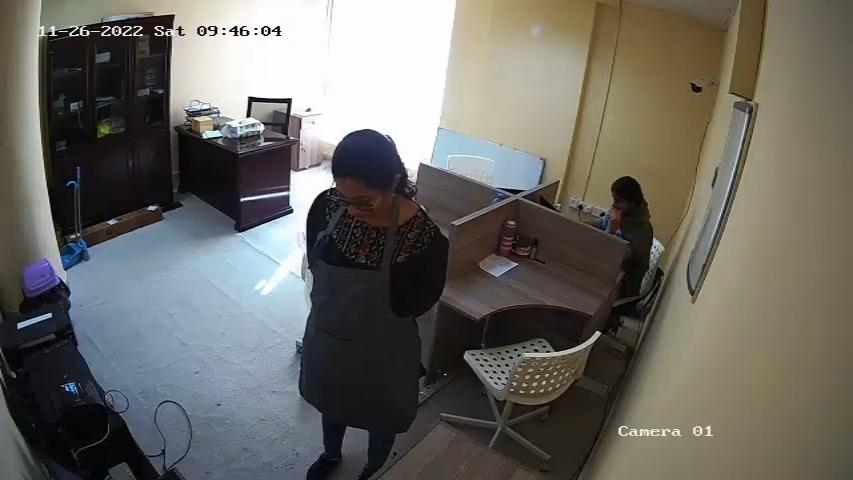apron: (304, 216, 419, 401)
